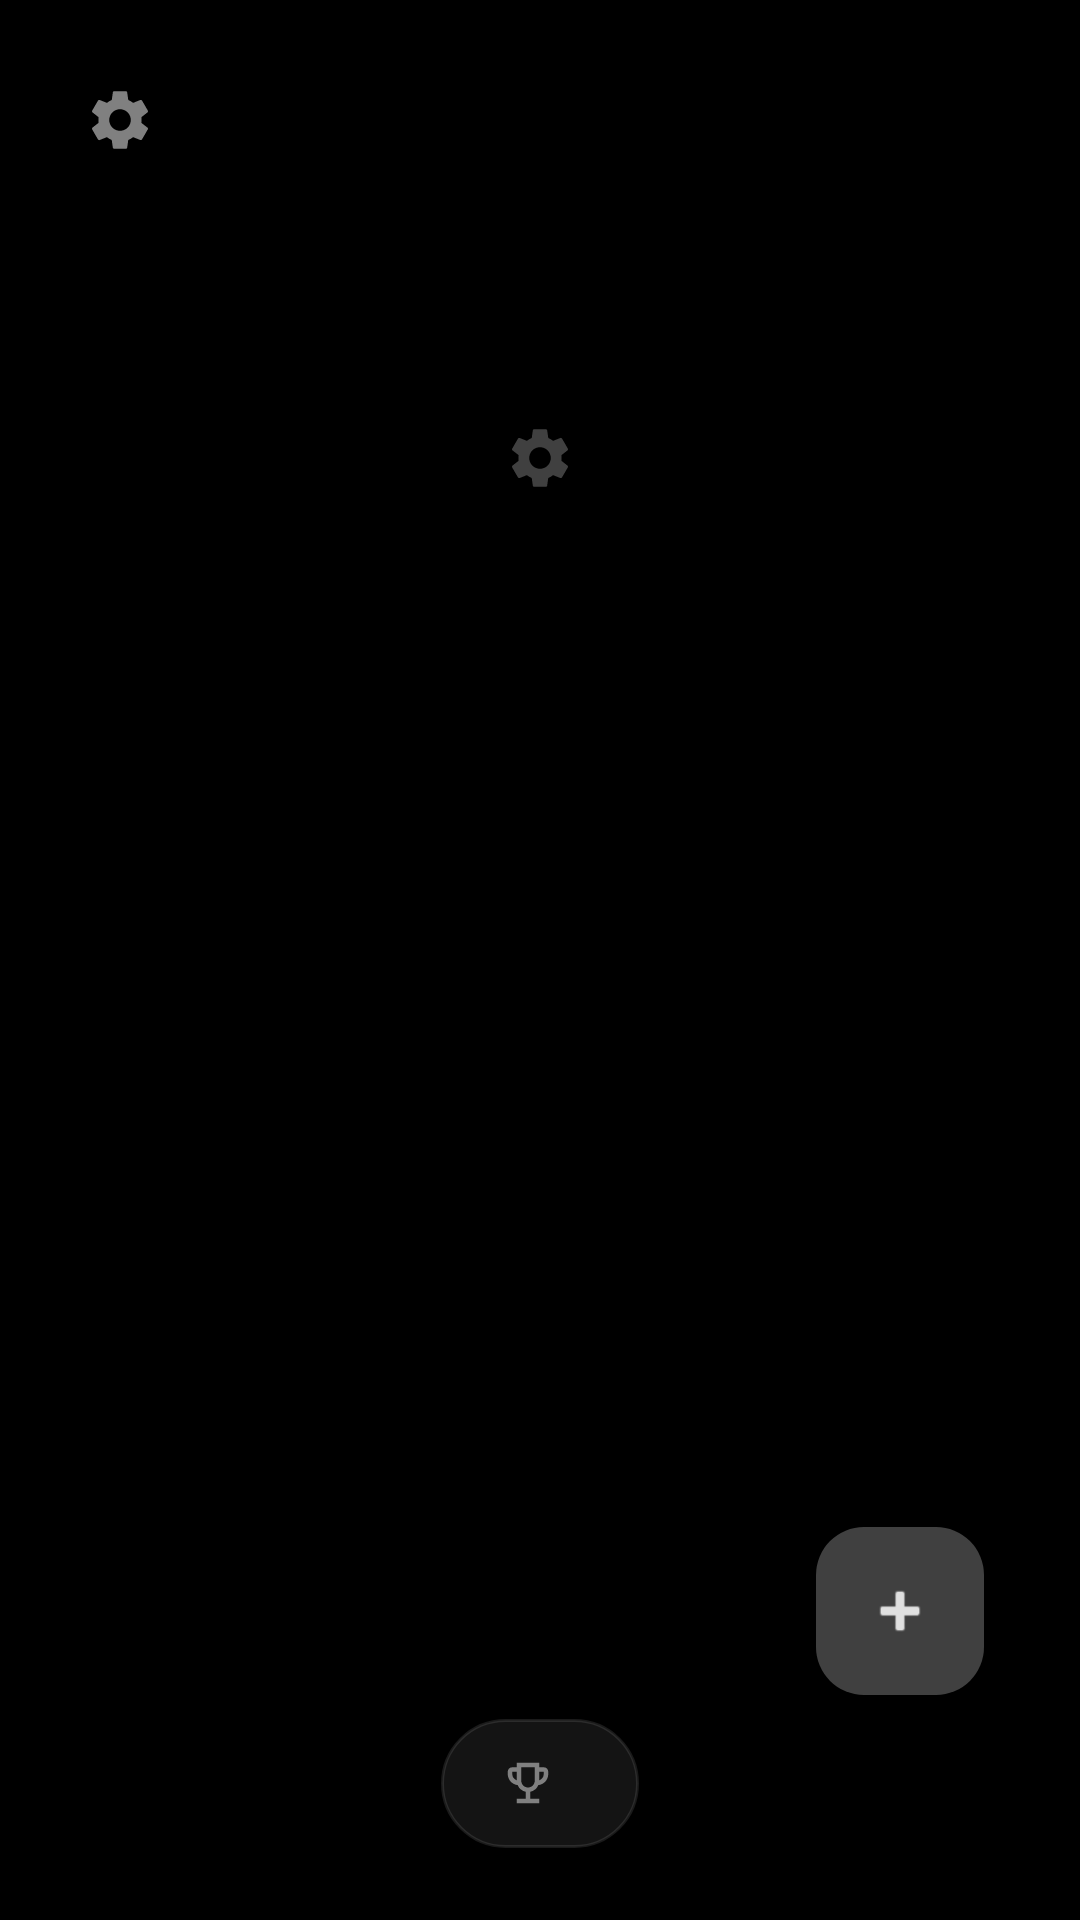

Point at icon controls on the screen. Image size 1080x1920, points as (x=x, y=y).
Add Task: (x=900, y=1611)
trophy: (x=528, y=1783)
